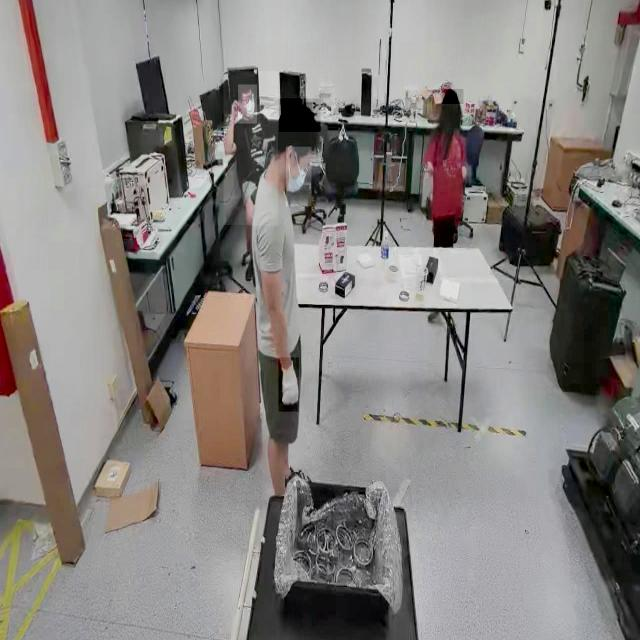face_mask: (286, 147, 312, 206), (238, 85, 257, 124)
hand_glove: (278, 358, 299, 412)
hand_noglove: (232, 97, 240, 117)
head_nohelmet: (278, 99, 320, 132), (441, 89, 463, 105), (236, 79, 253, 92)
person: (247, 99, 320, 501), (411, 86, 470, 270), (223, 71, 278, 226)
